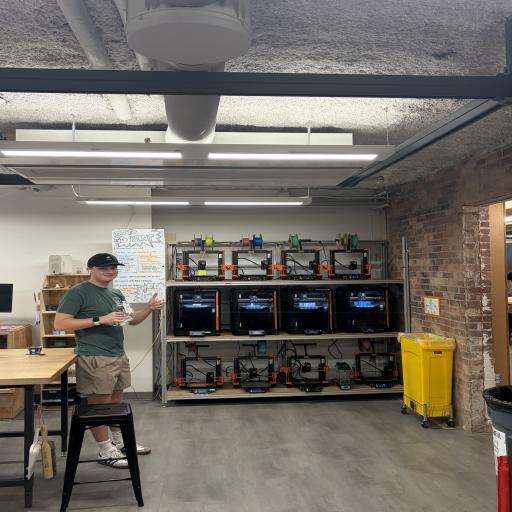Green-Lego: (280, 246, 284, 250)
